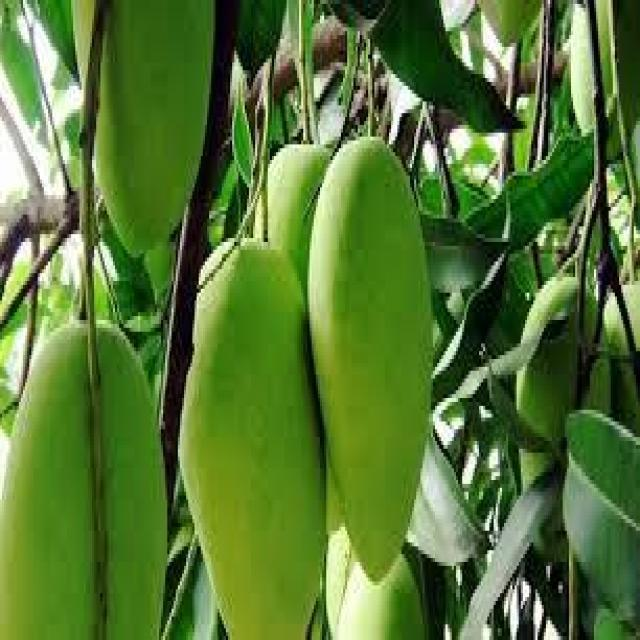Mango: (176, 236, 329, 634), (308, 136, 434, 580), (2, 318, 170, 640), (65, 0, 215, 261)
